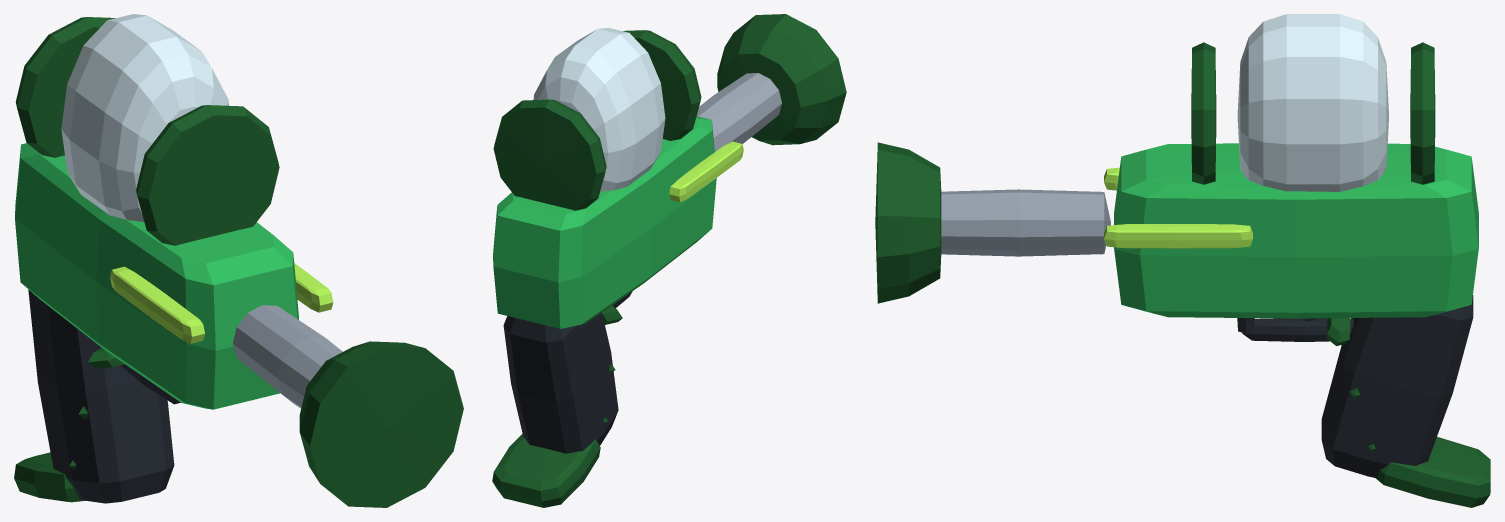
File: g-energy-4.glb
3 views of the same model, side by side, from view 1: azimuth 30°, elevation 25°; view 2: azimuth 150°, elevation 25°; view 3: azimuth 270°, elevation 25° (orthographic). The views are drawn at different scales.
Visible parts, largest first — view 1: gun; view 2: gun; view 3: gun.
Part boxes in pixels (x1=…): gun: x1=14, y1=14, x2=463, y2=507; gun: x1=492, y1=14, x2=846, y2=507; gun: x1=875, y1=14, x2=1490, y2=507.
Bounding box in the file's own units: 0.1922 × 0.6192 × 0.7306.
